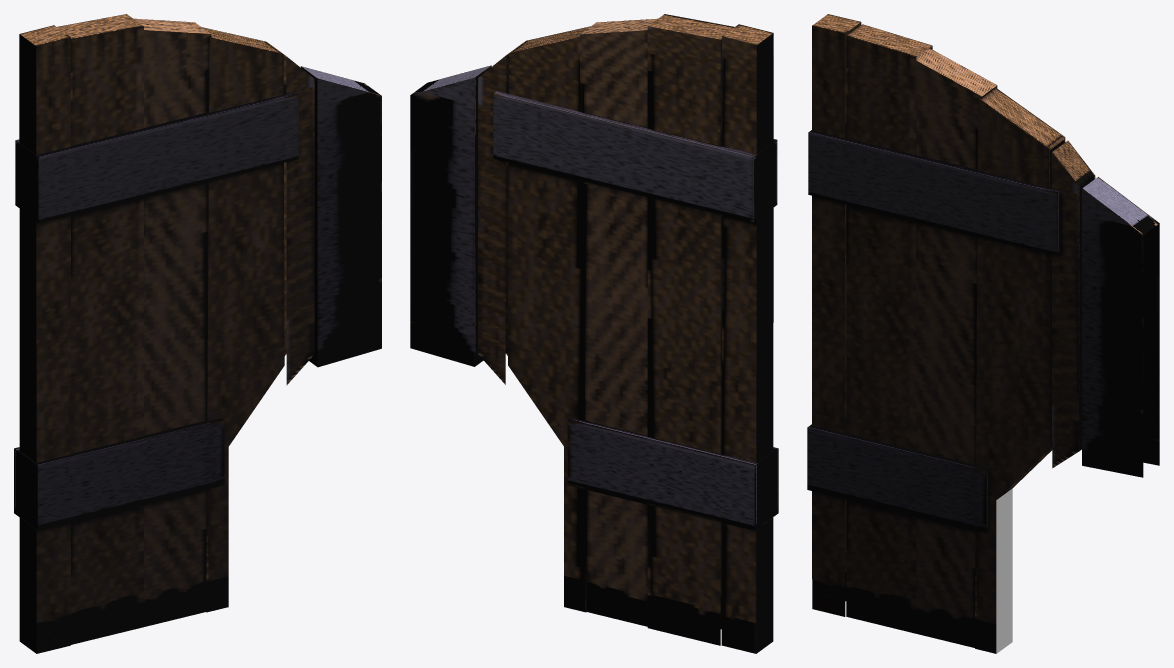
File: DoorSide1F0.obj
The picture shows the model from 3 angles, left to right: view 1: azimuth 30°, elevation 25°; view 2: azimuth 150°, elevation 25°; view 3: azimuth 330°, elevation 25°; orthographic projection. The views are drawn at different scales.
Parts seen in each view (by area): view 1: object 2; view 2: object 2; view 3: object 2, DoorSide1F0_Cube.424.
Part boxes in pixels (x1=…): object 2: x1=14, y1=14, x2=381, y2=653; object 2: x1=410, y1=14, x2=778, y2=653; object 2: x1=807, y1=14, x2=1159, y2=653; DoorSide1F0_Cube.424: x1=996, y1=488, x2=1012, y2=653.
Bounding box in the file's own units: 107 × 178 × 12.66.
